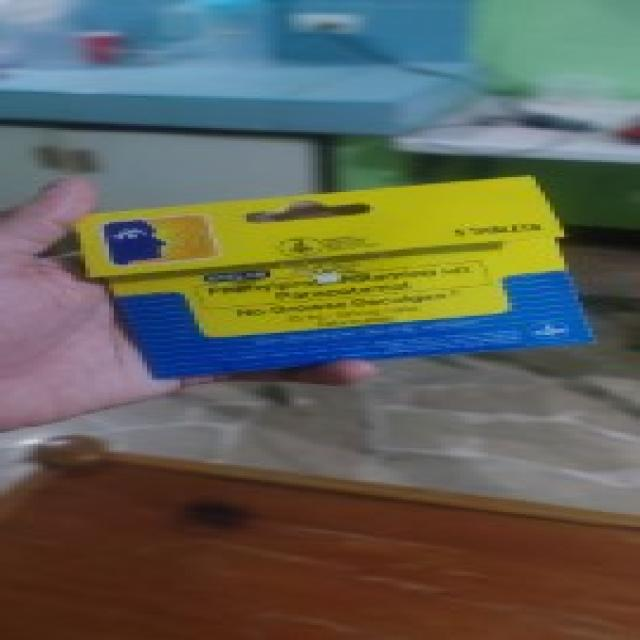Cacat: (63, 174, 597, 376)
